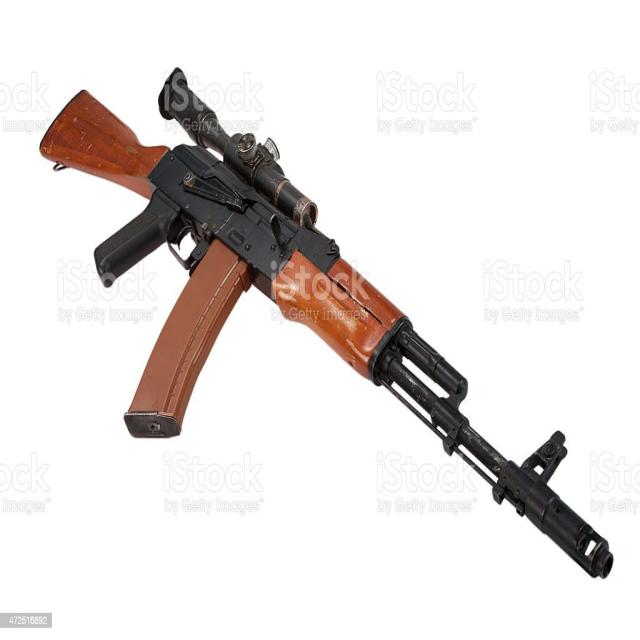Rifle: (39, 67, 615, 581)
